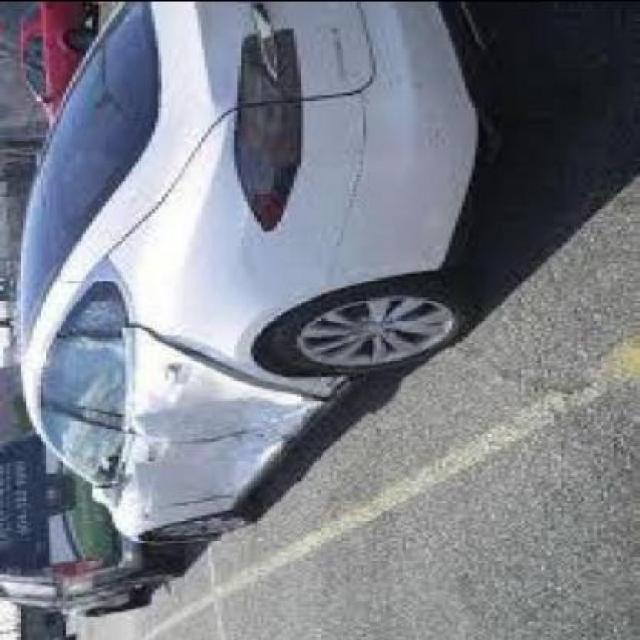damage: (112, 313, 322, 530)
